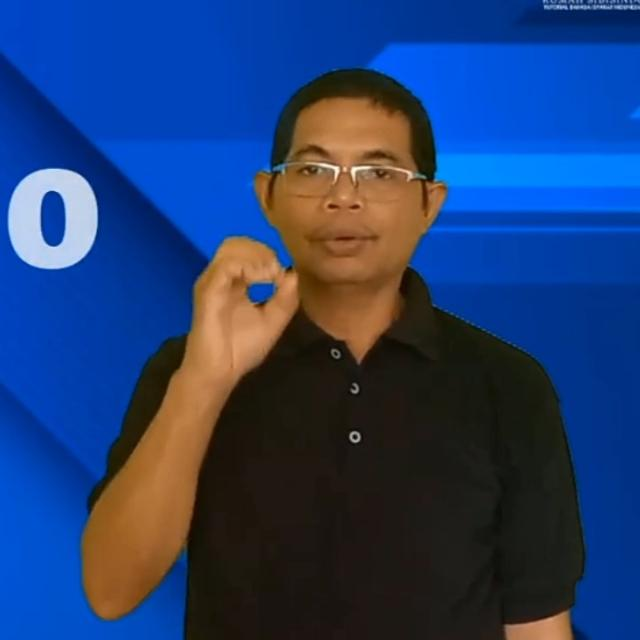O: (191, 232, 303, 378)
